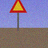sign: (9, 0, 27, 34)
